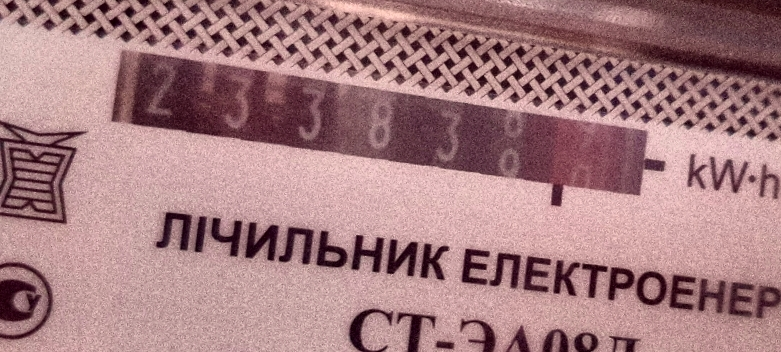0: (565, 158, 595, 194)
2: (139, 55, 184, 120)
3: (288, 79, 330, 146), (220, 70, 254, 131), (431, 104, 465, 163)
8: (360, 91, 399, 153), (499, 105, 529, 139)
9: (568, 114, 602, 156), (493, 143, 525, 182)
screen: (75, 23, 681, 243)
